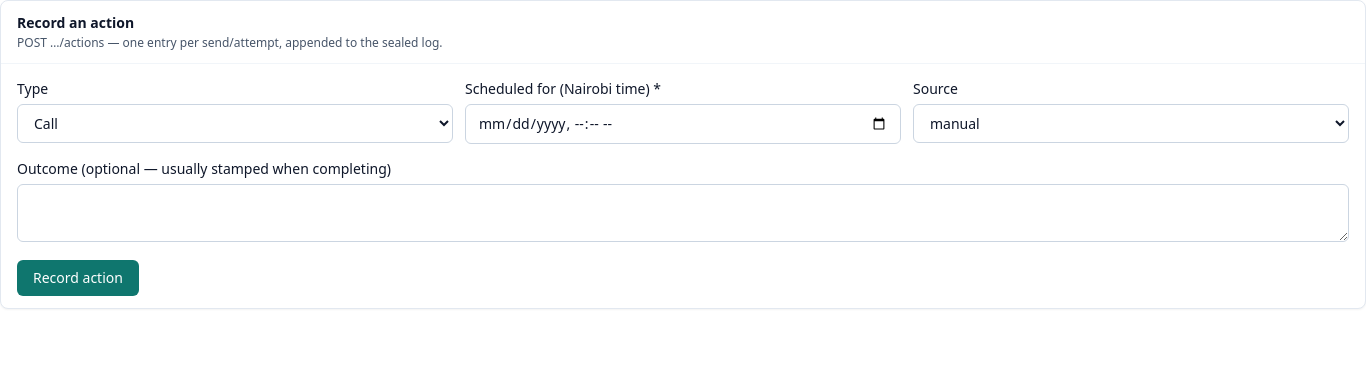
Test: CaseRecordActionPanel submission › posts RecordActionBody with the +03:00 Nairobi offset and hands the recorded pair back
The image size is (1366, 384).
Type "2026-09-02T09:00" into the field labelled "Scheduled for (Nairobi time) *". click: (683, 124)
box: [465,104,901,144]
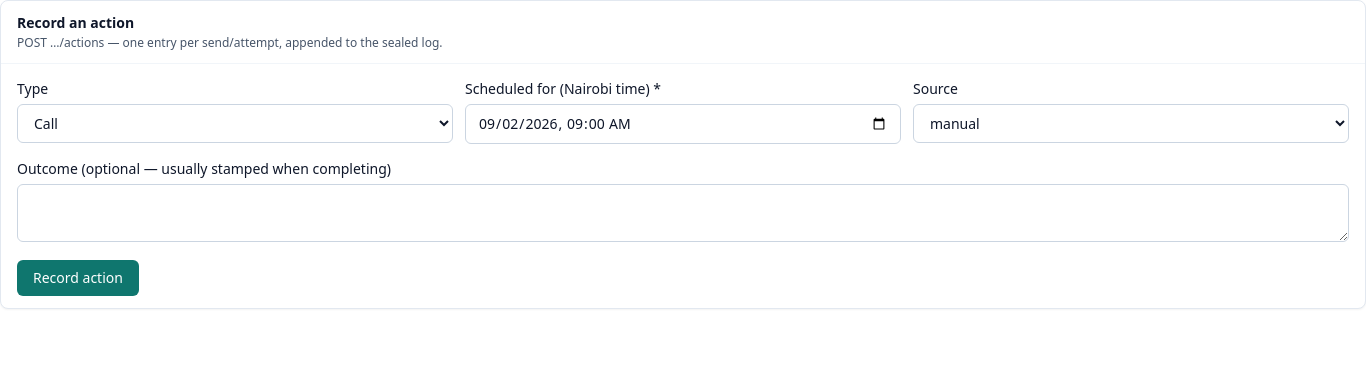
Click the button "Record action". click: (78, 278)
box: [17,260,139,296]
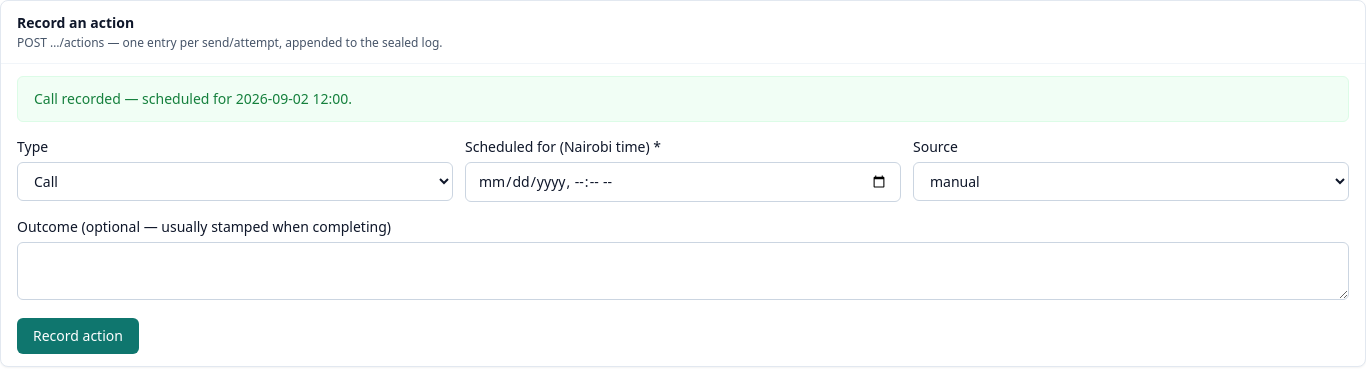
Expected: the message with test id "case-record-action-success" reads "Call recorded — scheduled for 2026-09-02 12:00.", [34,89,352,108]
